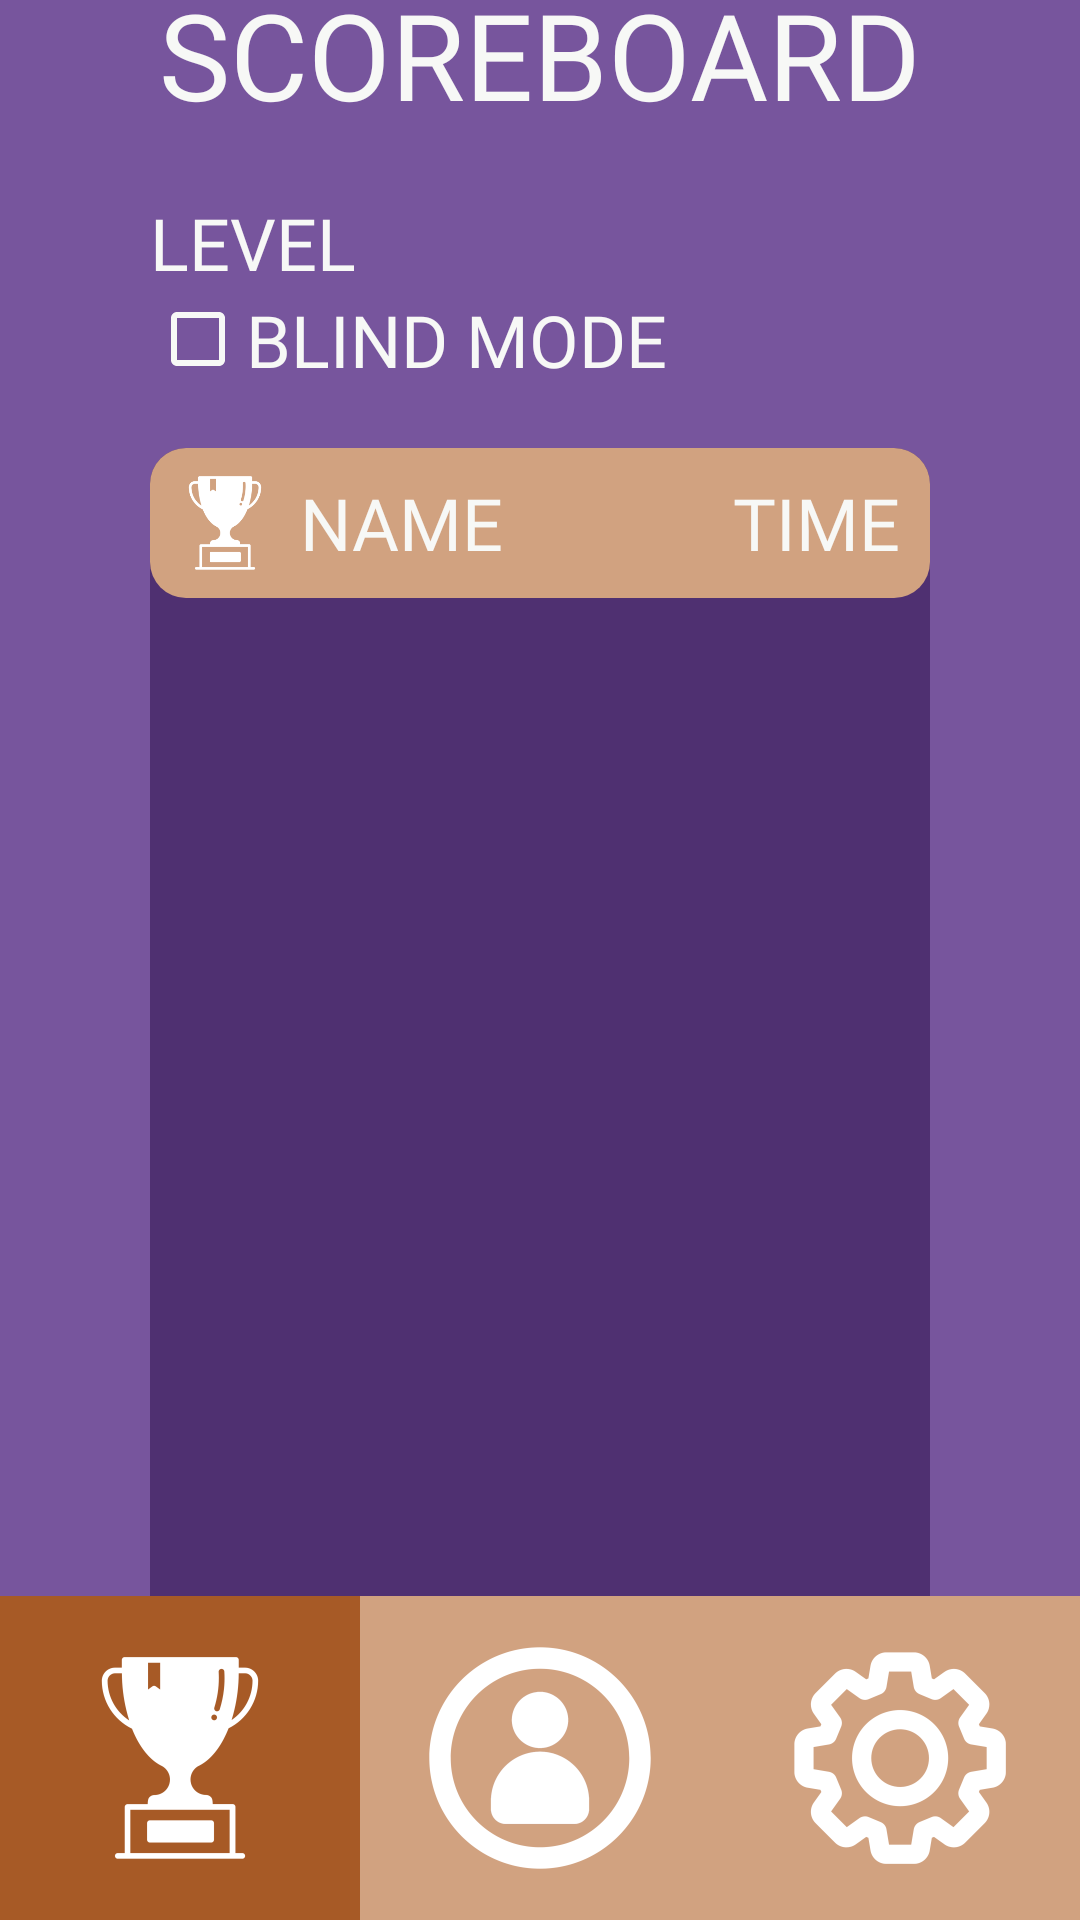

Named icons in this screenshot (1080×1920) and their centers, [x,y]:
profile: [540,1758]
scoreboard: [225,523], [180,1758]
setting: [900,1758]
